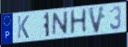1: (43, 11, 51, 39)
3: (108, 5, 122, 31)
H: (69, 8, 88, 37)
K: (17, 15, 30, 39)
N: (51, 10, 69, 37)
V: (87, 5, 107, 35)
